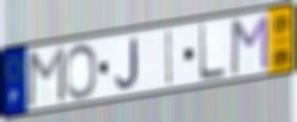I: (165, 27, 174, 89)
J: (113, 36, 140, 92)
L: (197, 21, 227, 84)
M: (229, 11, 271, 78), (25, 43, 67, 110)
O: (64, 42, 98, 101)
